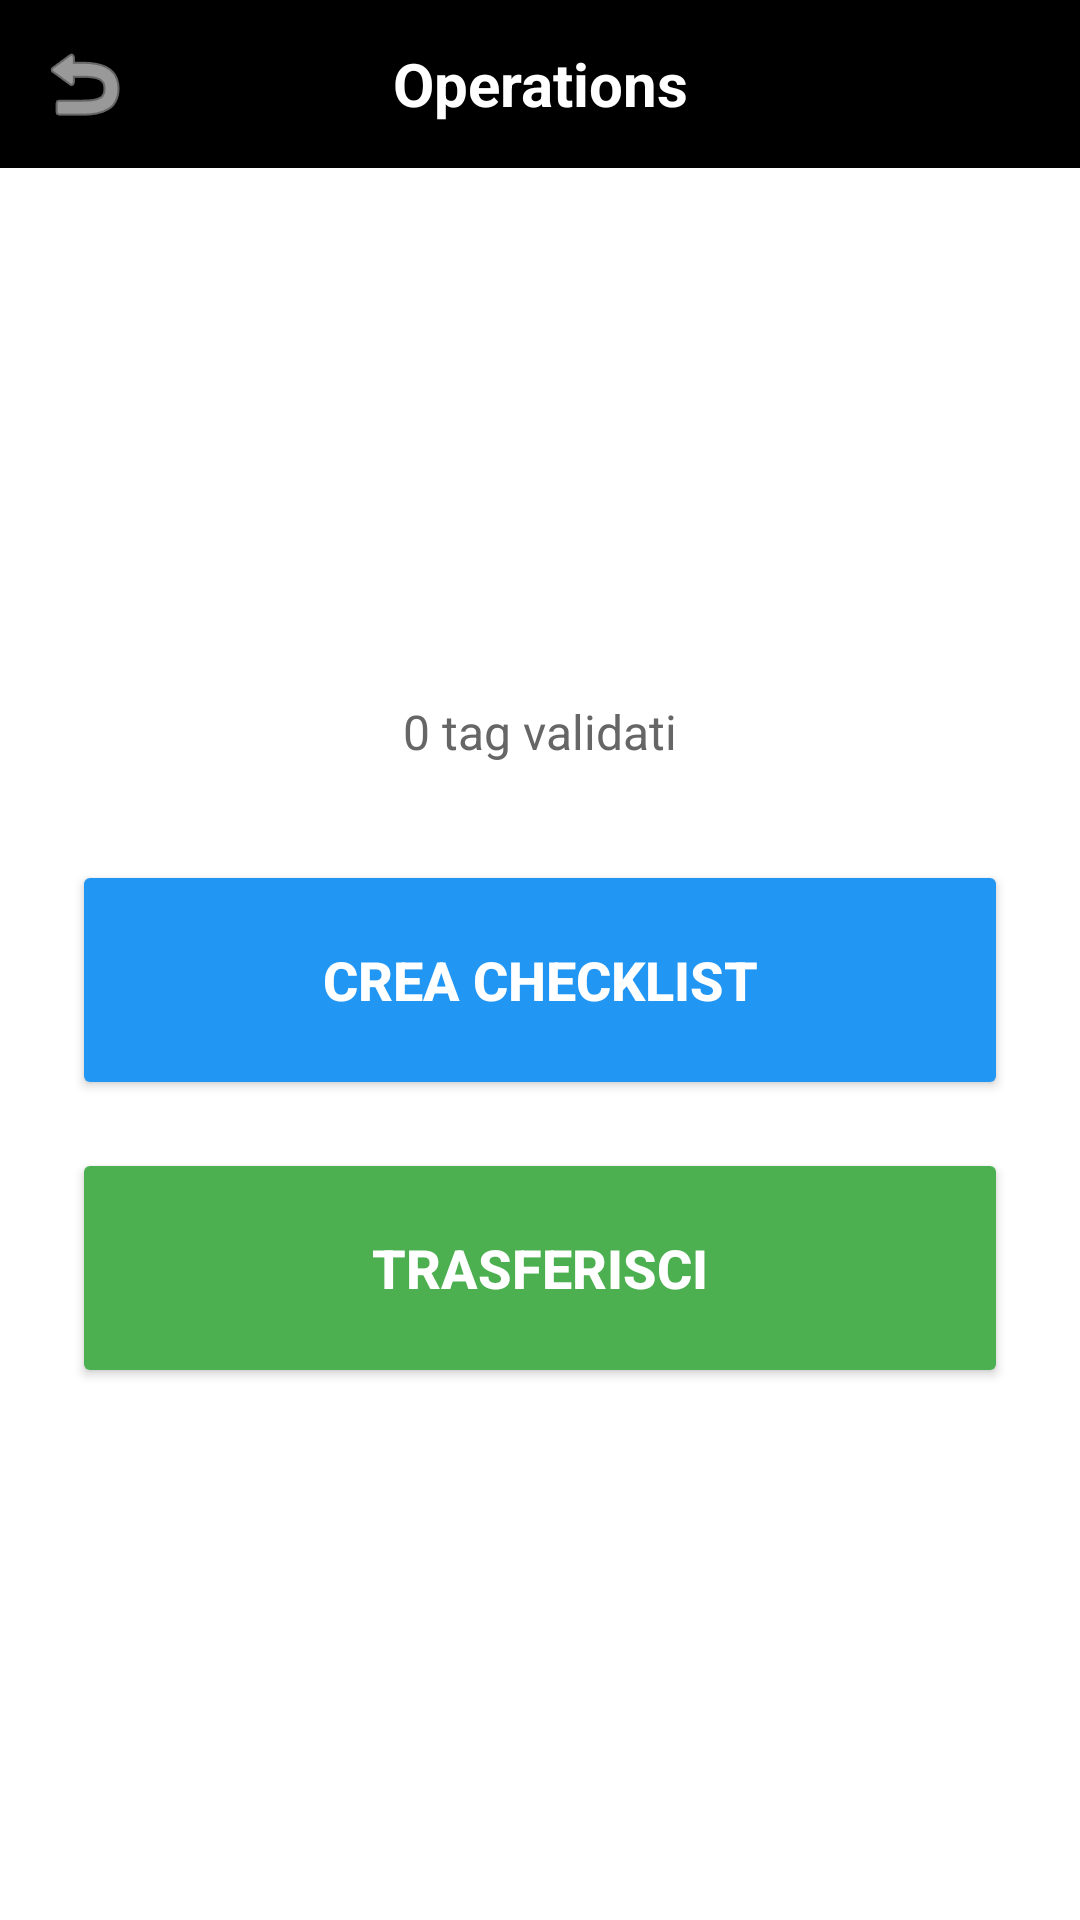

Icons on this 1080px x 1920px Android screen, each with its box as (x1, y1, x2, y2):
Back: (51, 53, 120, 116)
